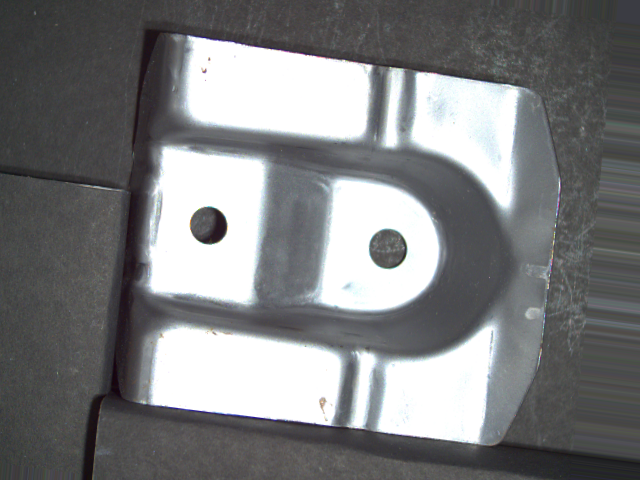defect: (363, 222, 410, 275)
